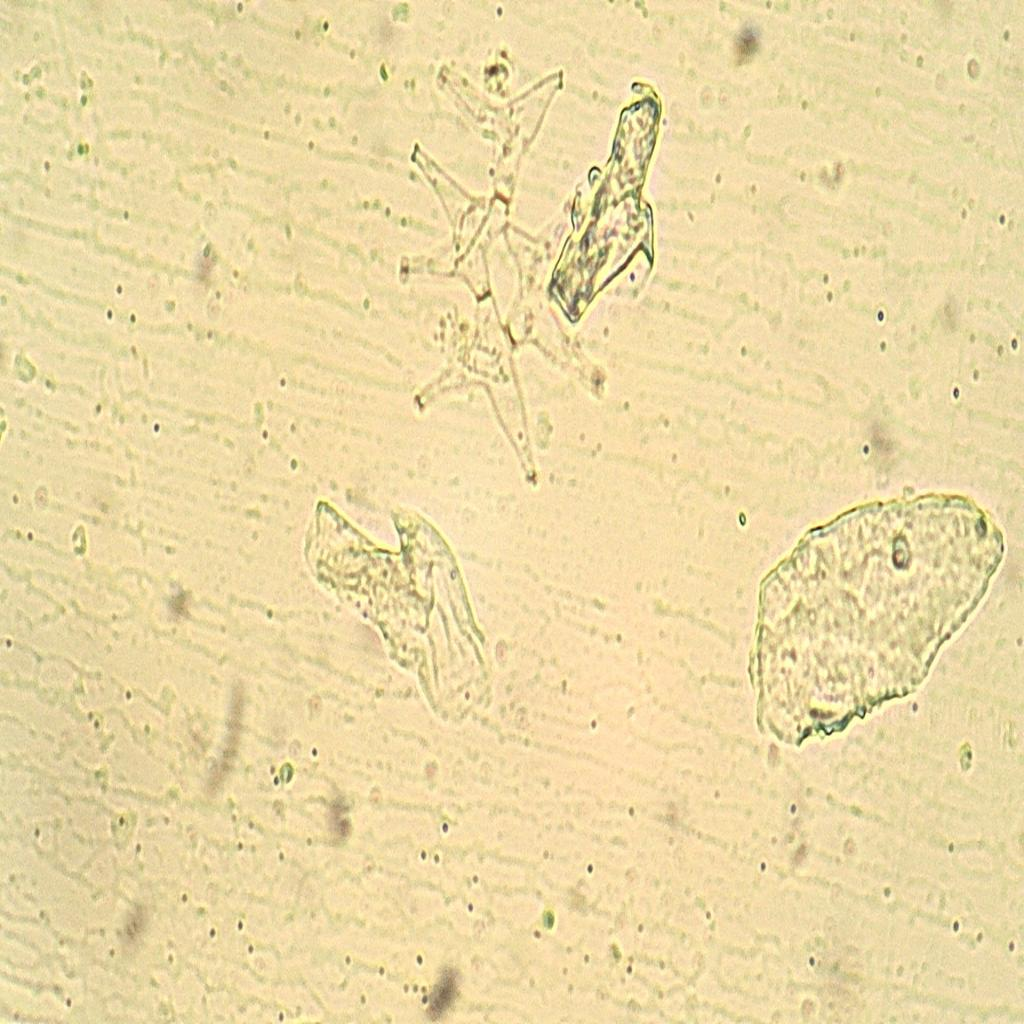Pediastrum_1F0: (374, 40, 621, 524)
